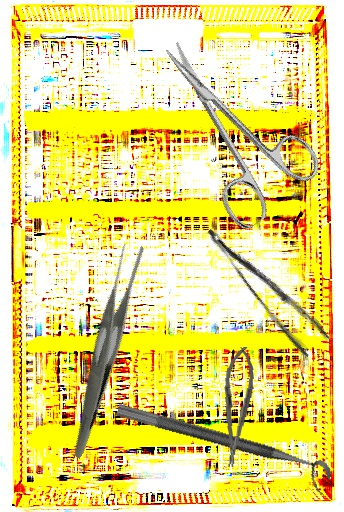Dressing Forceps: (13, 238, 195, 459), (204, 211, 332, 361)
Fixation Ring: (110, 401, 335, 497)
Iris Scissors: (130, 14, 330, 234)
Needle Holder: (215, 345, 258, 469)
